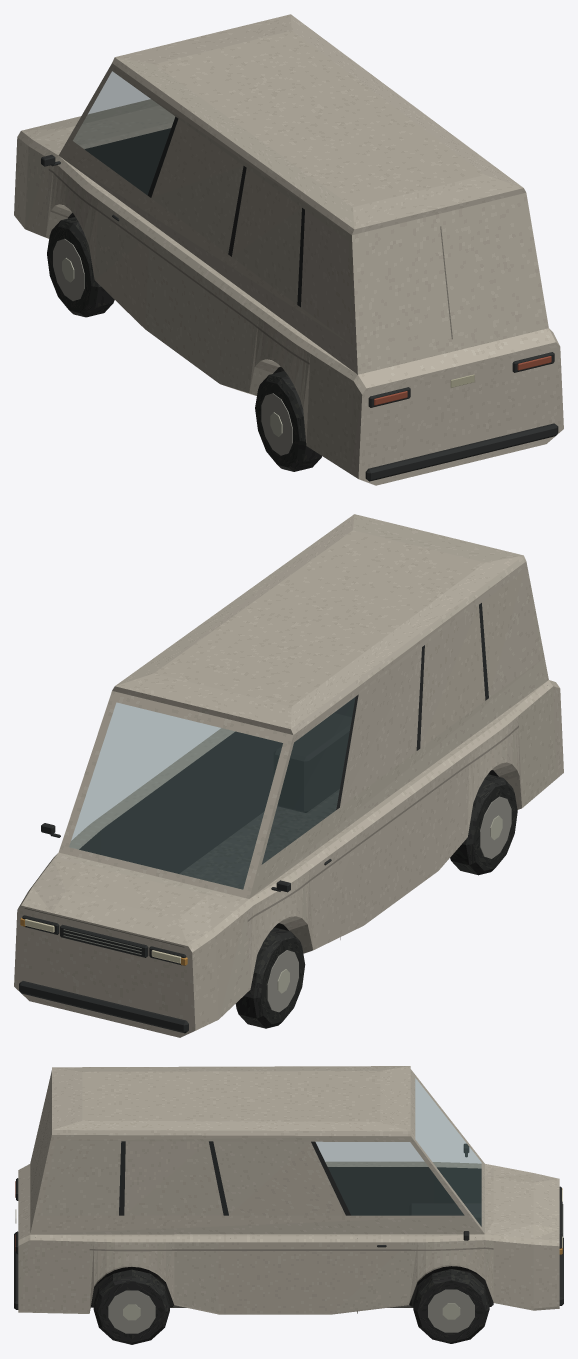
File: vehicle_delivery.glb
3 views of the same model, one above another, from view 1: azimuth 30°, elevation 25°; view 2: azimuth 150°, elevation 25°; view 3: azimuth 270°, elevation 25° (orthographic). The views are drawn at different scales.
Visible parts, largest first — view 1: closed_body, roof_body, glazing; view 2: closed_body, roof_body, glazing; view 3: closed_body, roof_body, glazing.
Part boxes in pixels (x1=…): closed_body: x1=14, y1=63, x2=563, y2=485; roof_body: x1=112, y1=14, x2=525, y2=234; glazing: x1=73, y1=71, x2=174, y2=194; closed_body: x1=14, y1=561, x2=563, y2=1037; roof_body: x1=112, y1=514, x2=525, y2=734; glazing: x1=69, y1=697, x2=355, y2=889; closed_body: x1=14, y1=1069, x2=563, y2=1344; roof_body: x1=52, y1=1066, x2=410, y2=1136; glazing: x1=316, y1=1078, x2=481, y2=1226.
Bounding box in the file's own units: 2.39 × 2.55 × 6.05.
Materials: 2 (2 with a texture image).
